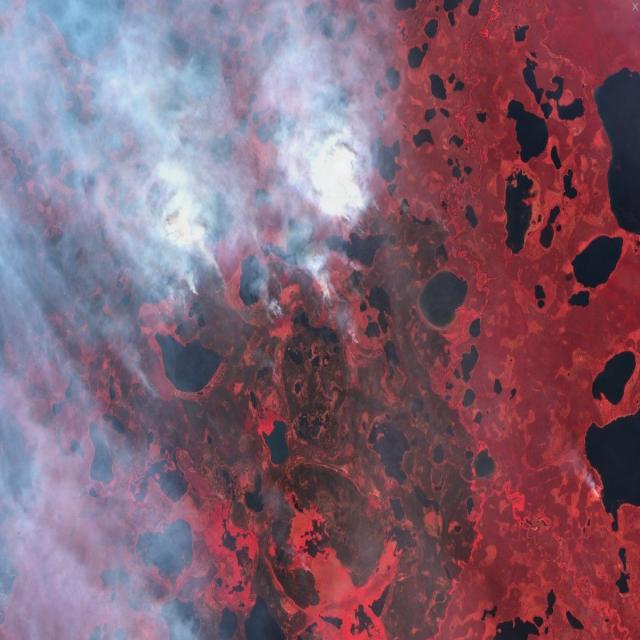fire: (140, 174, 458, 422)
